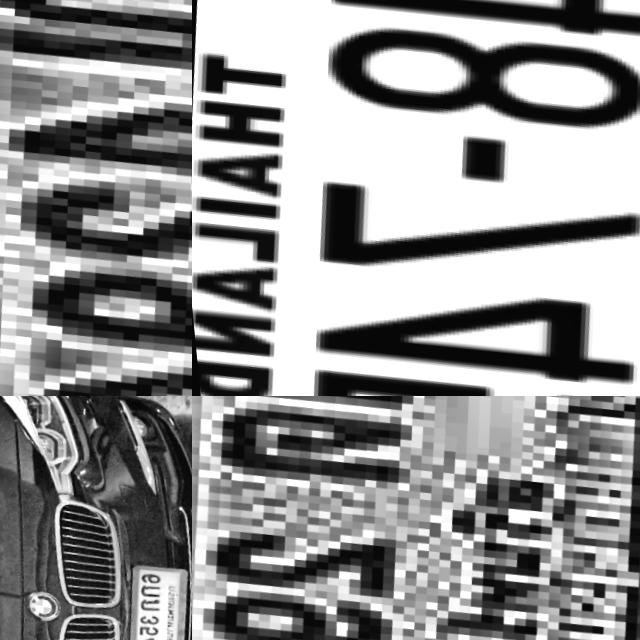license-plate: (192, 0, 640, 396), (192, 396, 640, 640), (0, 0, 192, 396), (106, 563, 192, 640)
